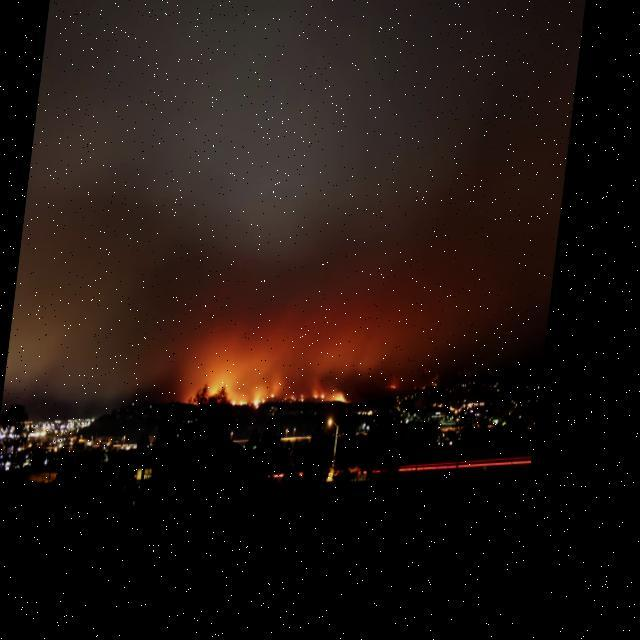Fire: (240, 394, 285, 414), (214, 378, 244, 404), (295, 396, 315, 408), (324, 396, 336, 404), (399, 390, 407, 394)
